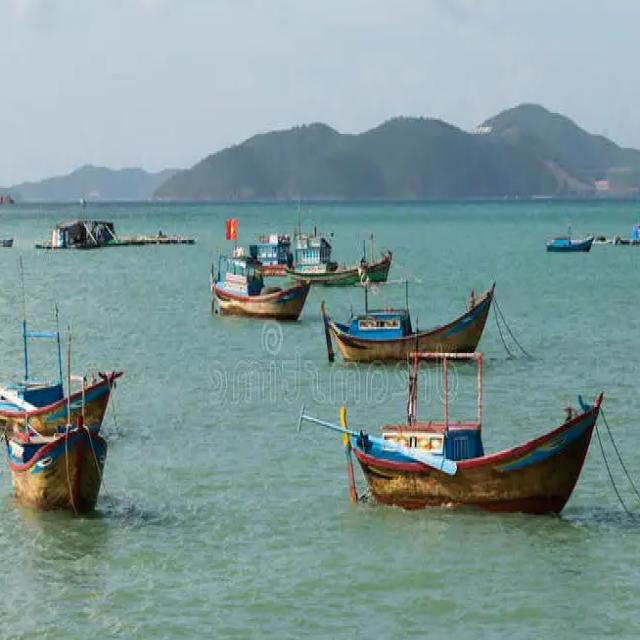fishing boat: (337, 346, 599, 517), (322, 262, 499, 366), (0, 311, 123, 424), (5, 408, 110, 510), (214, 252, 308, 324), (295, 227, 388, 288), (243, 226, 296, 280), (546, 212, 595, 252)
